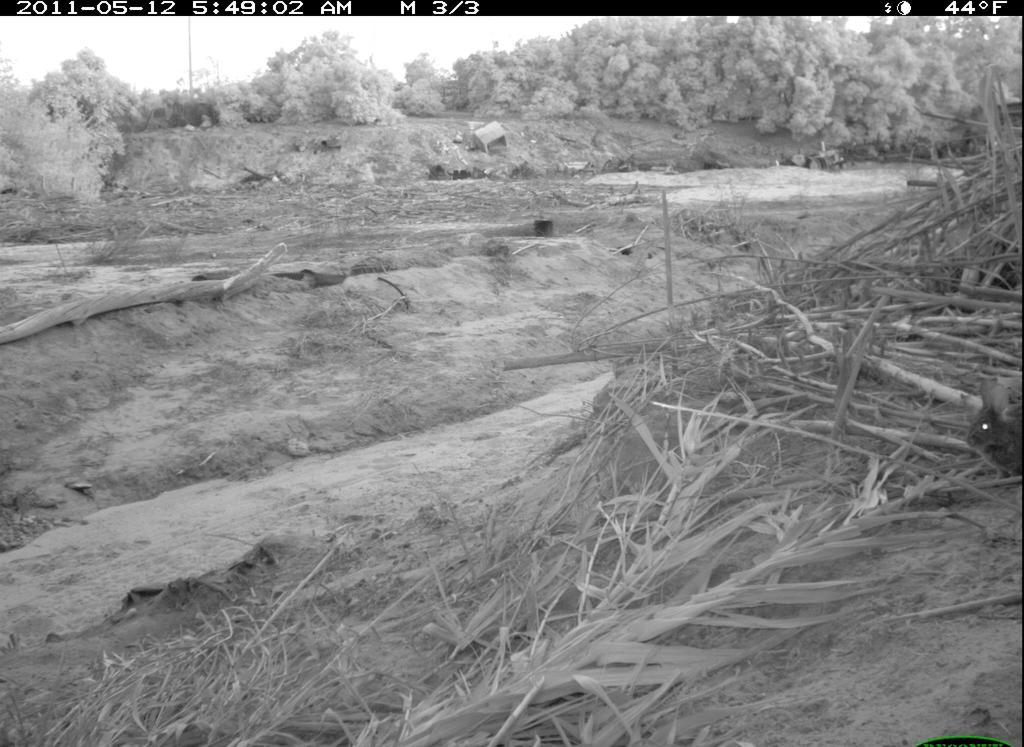rabbit: (956, 359, 1023, 508)
